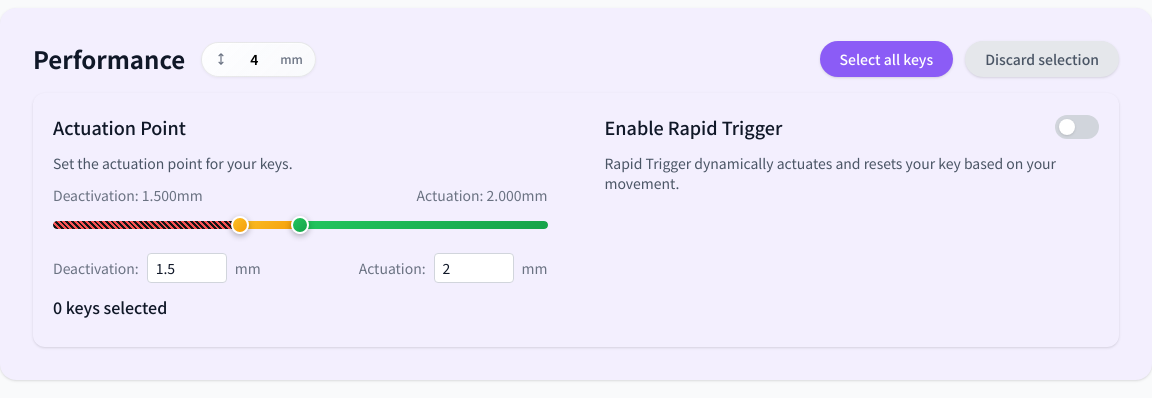
Test: PerformancePage › editing › does not write while no key is selected
Set the slider named "Actuation" to "3" at [420, 225], box [53, 213, 548, 237]
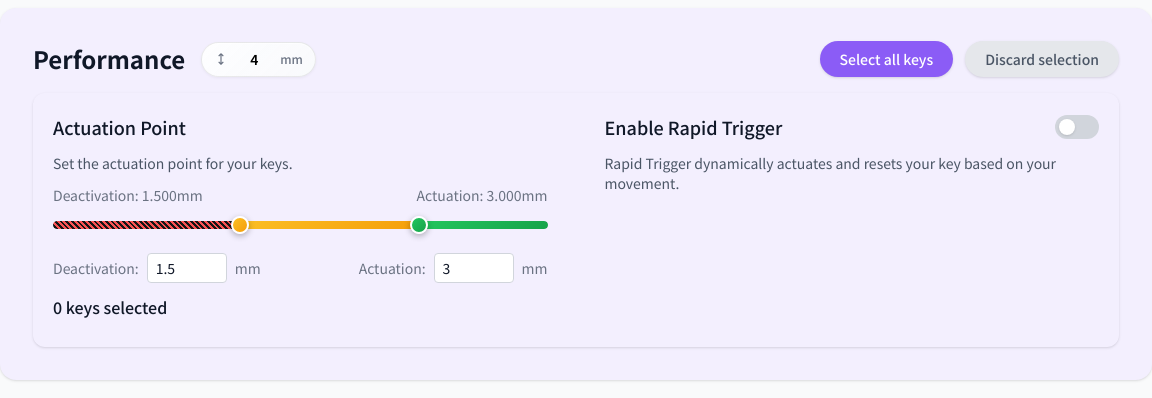
expect the text "Actuation: 3.000mm" is shown: met, box [416, 185, 548, 205]
